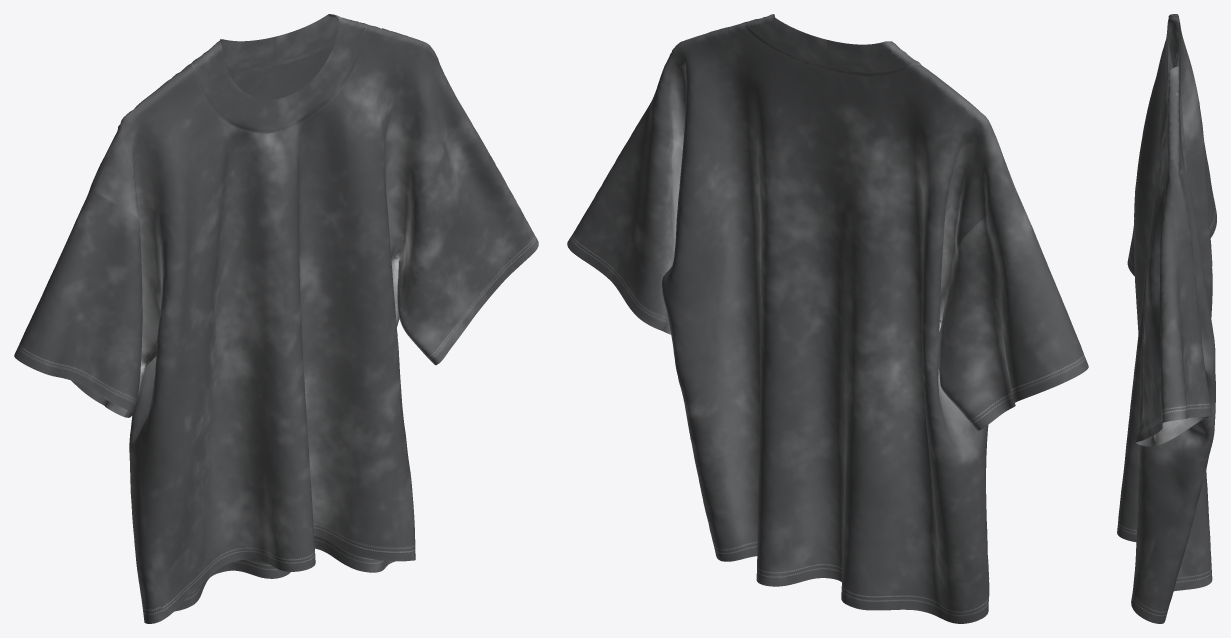
The model's file is tshirt-hanger.glb.
3 renders of one model, left to right at view 1: azimuth 30°, elevation 25°; view 2: azimuth 150°, elevation 25°; view 3: azimuth 270°, elevation 25°, orthographic. The views are drawn at different scales.
Visible parts, largest first — view 1: Tshirt_Hanger_(thin); view 2: Tshirt_Hanger_(thin); view 3: Tshirt_Hanger_(thin).
Part boxes in pixels (box(x1,y1,x2,y2)): Tshirt_Hanger_(thin): box(14, 14, 538, 623); Tshirt_Hanger_(thin): box(567, 14, 1088, 623); Tshirt_Hanger_(thin): box(1117, 14, 1216, 623).
Bounding box in the file's own units: 0.7406 × 0.7699 × 0.1316.
1 material, 1 textured.
